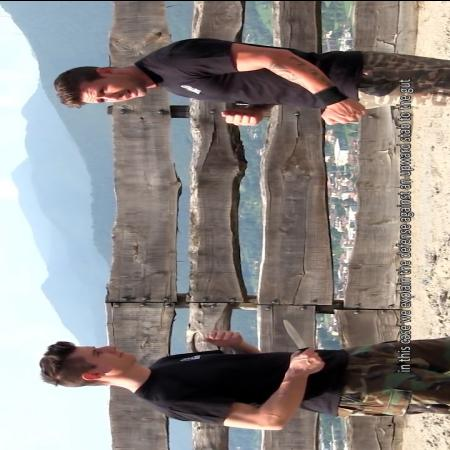long weapon: (276, 314, 326, 374)
